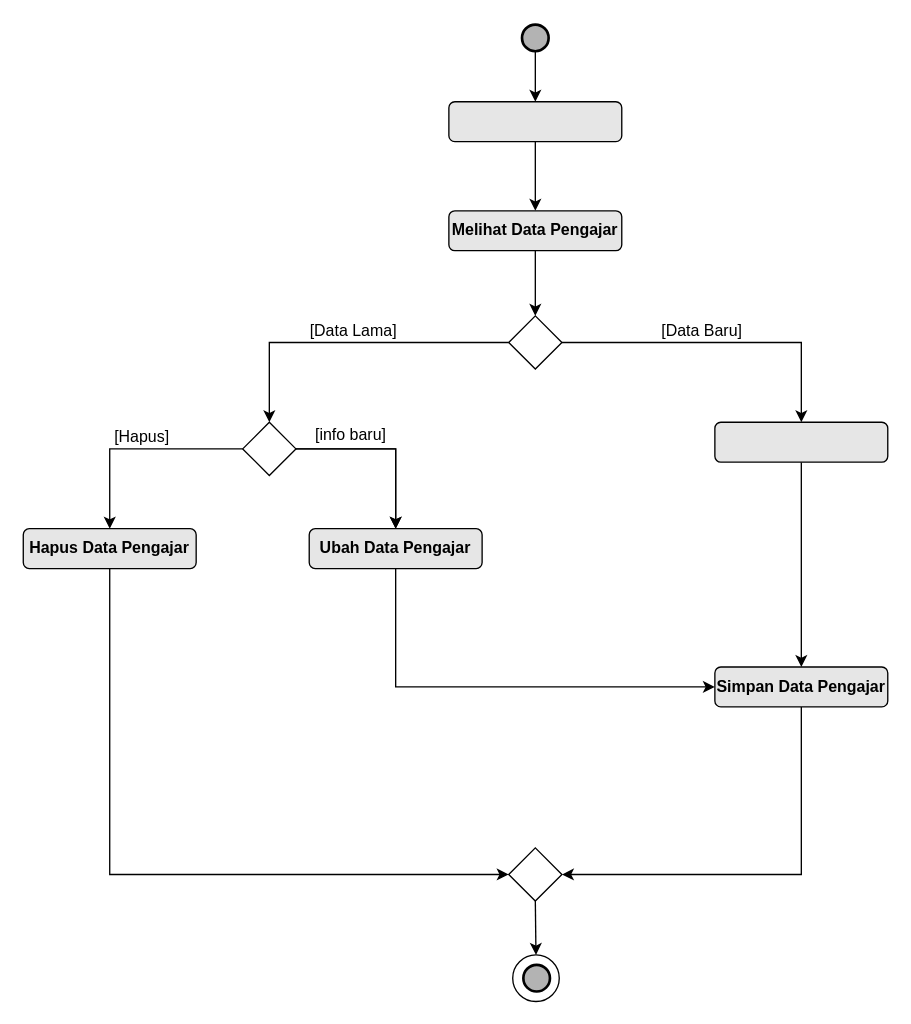
Some shapes in this 911 by 1024 pixel diagram are drawn without their labels. The shapes that lost their labels are listed below. From the top down, each one's centre as x and y in pixels, then its label:
(x=535, y=121): Kelola Data Pengajar
(x=801, y=441): Tambah Data Pengajar
